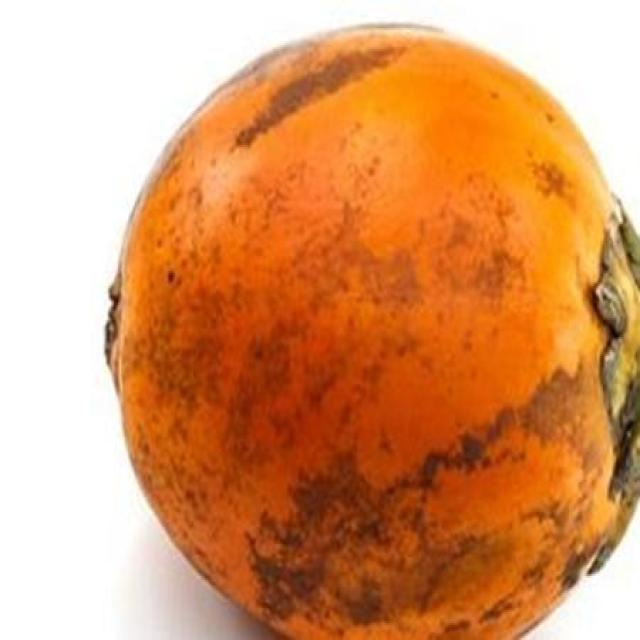good: (104, 24, 639, 638)
